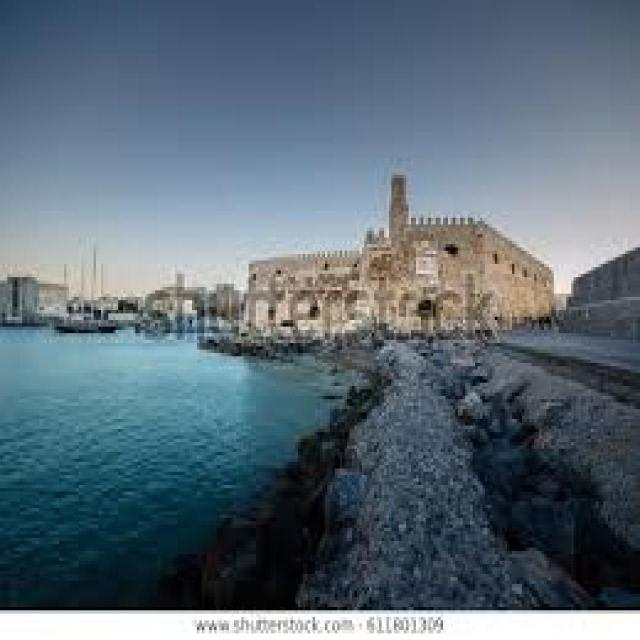Kules: (245, 169, 559, 328)
